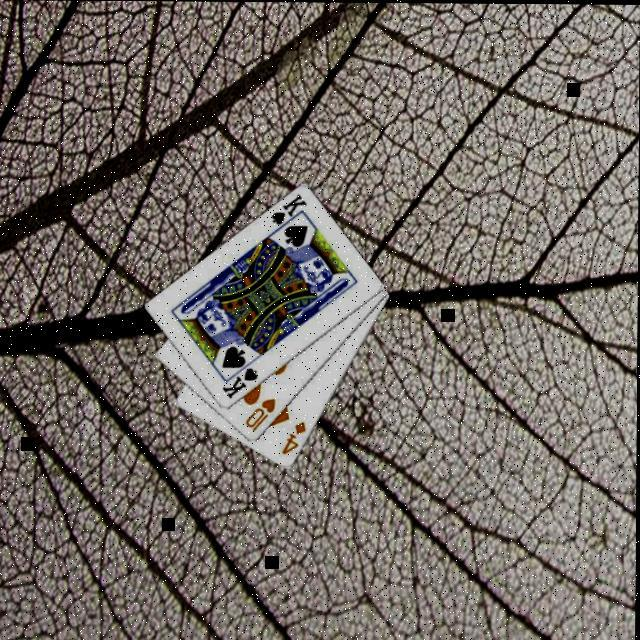10H: (242, 394, 278, 433)
4D: (278, 418, 308, 457)
KS: (268, 190, 308, 233), (220, 364, 260, 400)
